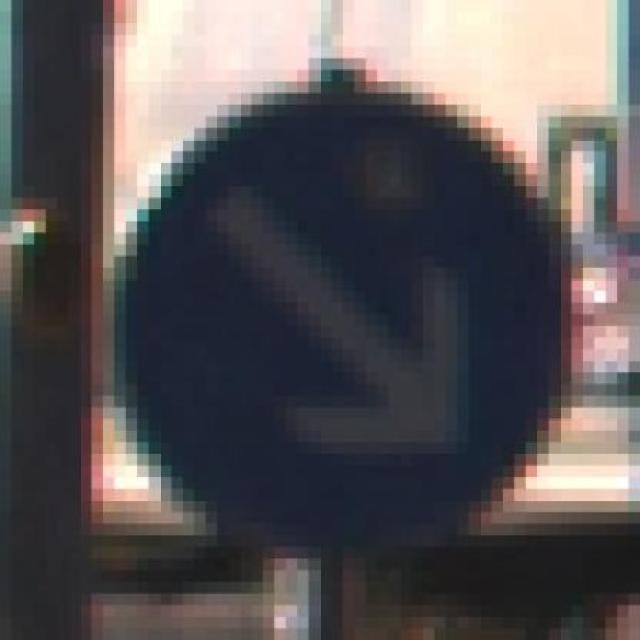Keep-Right: (68, 46, 583, 594)
